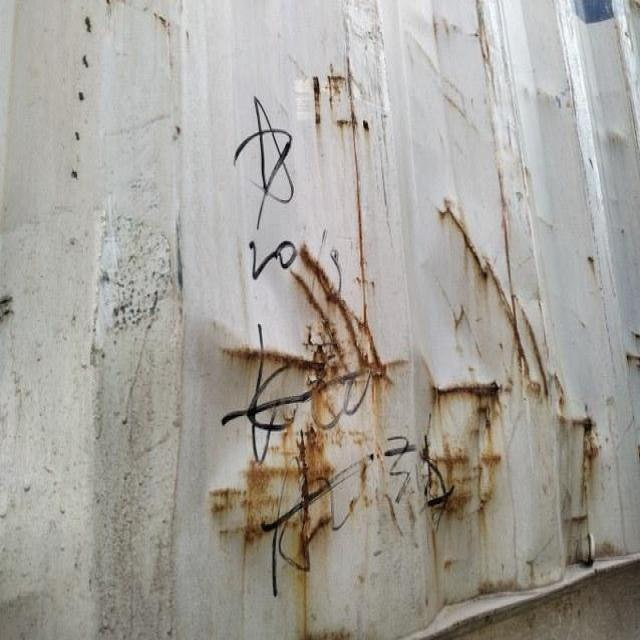Rust: (238, 238, 389, 565), (419, 442, 499, 520), (422, 364, 518, 416), (566, 415, 606, 496)
